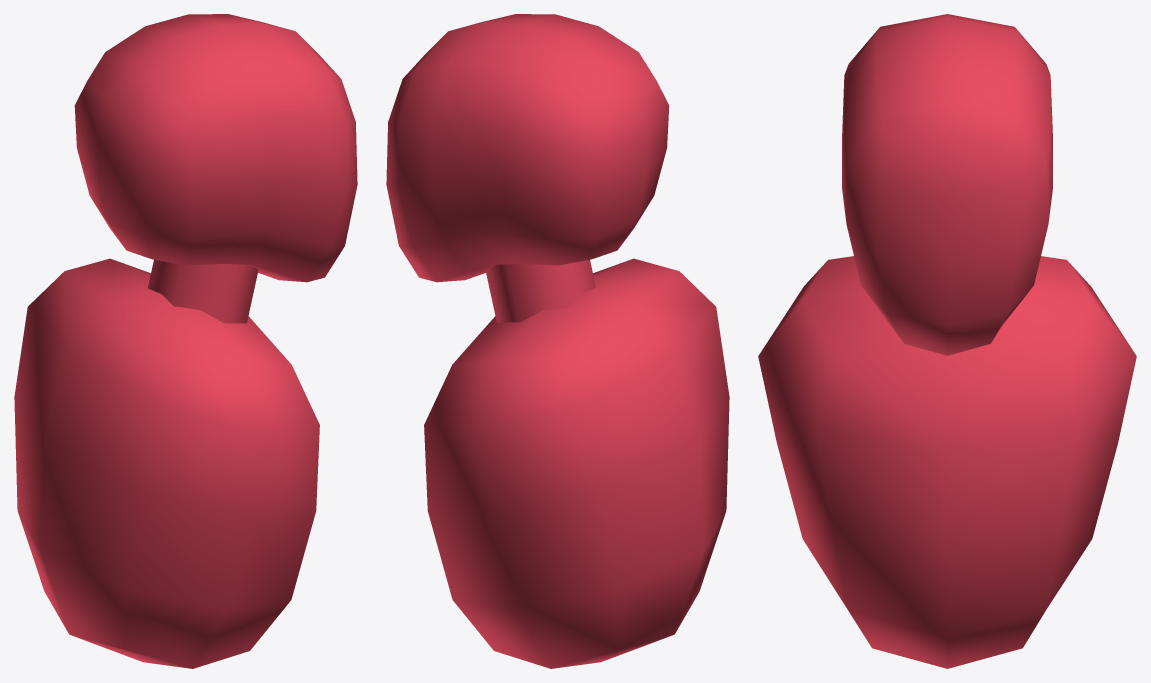
File: Texture_Test.glb
3 views of the same model, side by side, from view 1: azimuth 30°, elevation 25°; view 2: azimuth 150°, elevation 25°; view 3: azimuth 270°, elevation 25° (orthographic). The views are drawn at different scales.
Parts seen in each view (by area): view 1: STorso.001, SHead.001, SNeck.001; view 2: STorso.001, SHead.001, SNeck.001; view 3: STorso.001, SHead.001.
Part boxes in pixels (left/top/right/bottom): STorso.001: left=14, top=258, right=319, bottom=668; SHead.001: left=74, top=14, right=357, bottom=282; SNeck.001: left=148, top=259, right=258, bottom=323; STorso.001: left=424, top=258, right=729, bottom=668; SHead.001: left=386, top=14, right=669, bottom=282; SNeck.001: left=485, top=259, right=595, bottom=322; STorso.001: left=758, top=256, right=1136, bottom=668; SHead.001: left=842, top=14, right=1052, bottom=355.
Bounding box in the file's own units: 0.6836 × 1.38 × 0.7417.
